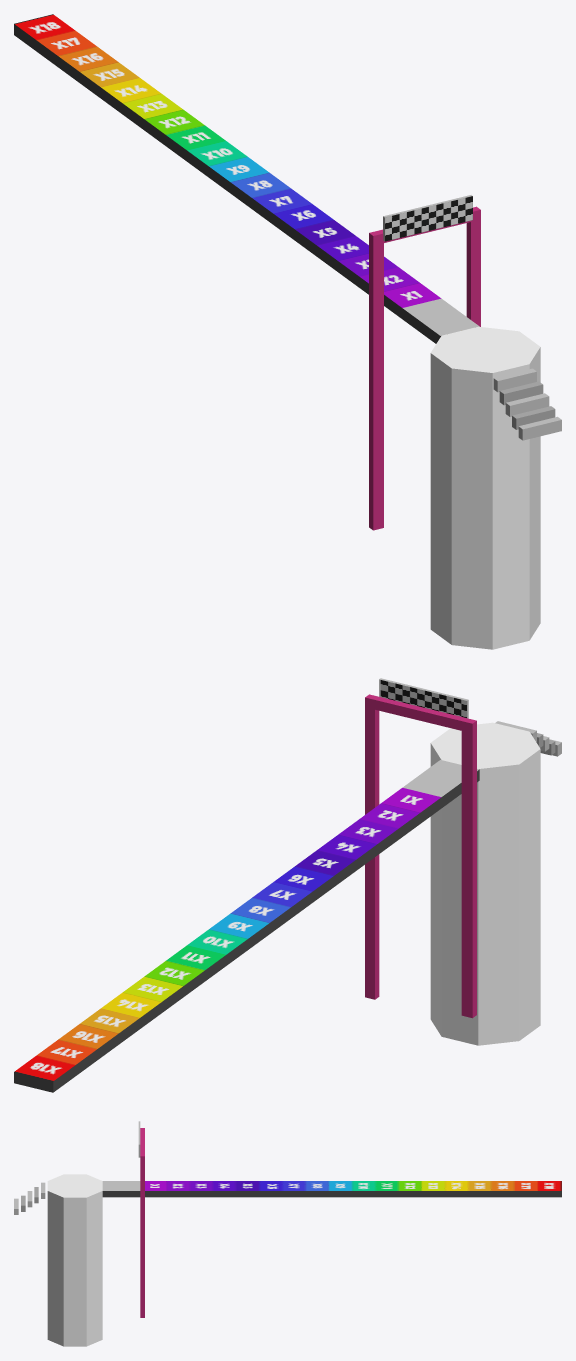
The model's file is Finish.fbx.
3 views of the same model, one above another, from view 1: azimuth 30°, elevation 25°; view 2: azimuth 150°, elevation 25°; view 3: azimuth 270°, elevation 25° (orthographic). The views are drawn at different scales.
Parts seen in each view (by area): view 1: Куб.007; view 2: Куб.007; view 3: Куб.007.
Boxes of the visible parts, left/top/right/bottom form: Куб.007: left=14, top=14, right=561, bottom=649; Куб.007: left=14, top=678, right=561, bottom=1092; Куб.007: left=14, top=1121, right=561, bottom=1346.
Bounding box in the file's own units: 579 × 1936 × 4747.
